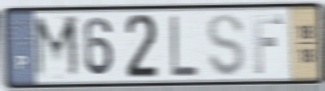2: (124, 12, 161, 81)
6: (82, 16, 116, 78)
F: (251, 14, 285, 76)
L: (168, 13, 200, 78)
M: (32, 13, 83, 82)
S: (205, 12, 247, 80)
